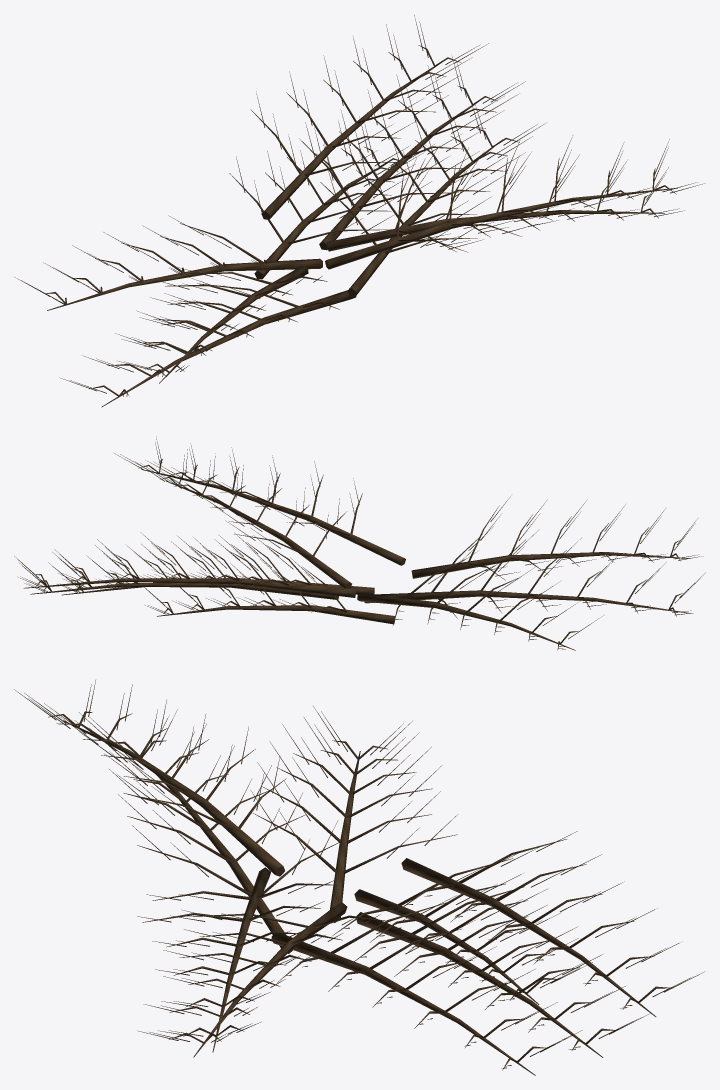
Rendered from SS_Brash_Dry_02_LOD1.fbx.
3 renders of one model, top to bottom at view 1: azimuth 30°, elevation 25°; view 2: azimuth 150°, elevation 25°; view 3: azimuth 270°, elevation 25°, orthographic. The views are drawn at different scales.
Visible parts, largest first — view 1: SS_Brash_Dry_02_LOD1_Structure; view 2: SS_Brash_Dry_02_LOD1_Structure; view 3: SS_Brash_Dry_02_LOD1_Structure.
Boxes of the visible parts, x1,y1,x2,y2 form: SS_Brash_Dry_02_LOD1_Structure: (14,15,705,407); SS_Brash_Dry_02_LOD1_Structure: (14,436,705,650); SS_Brash_Dry_02_LOD1_Structure: (14,680,704,1075).
Bounding box in the file's own units: 627 × 108 × 483.
